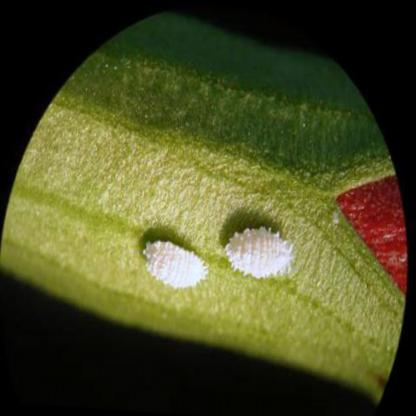mealy bug: (225, 226, 293, 279), (144, 243, 212, 293)
